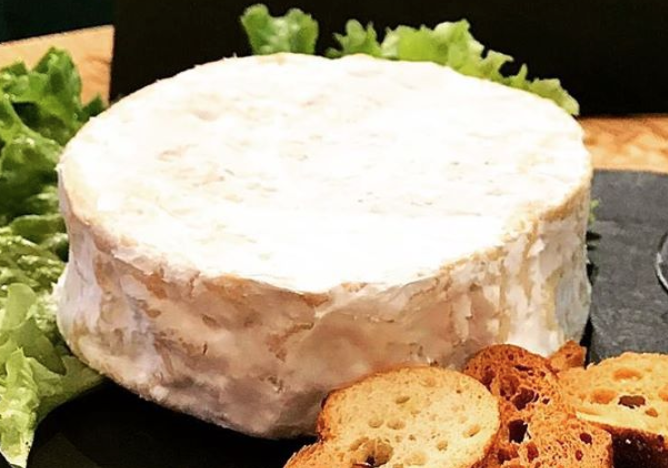camembert: (51, 49, 597, 441)
